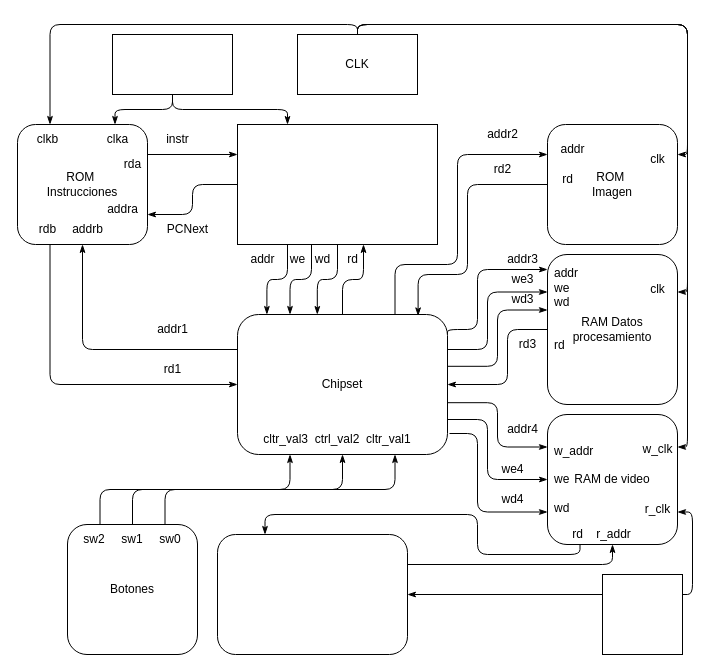
Image size: 718x672. Some labels were removed from this diagram. The shapes that lost their labels are listed below. From the top down, each one's centre as x and y in pixels, then its label:
[172,64]: CLK/2
[337,184]: Procesador
[312,594]: Driver VGA
[642,614]: CLK_VGA
